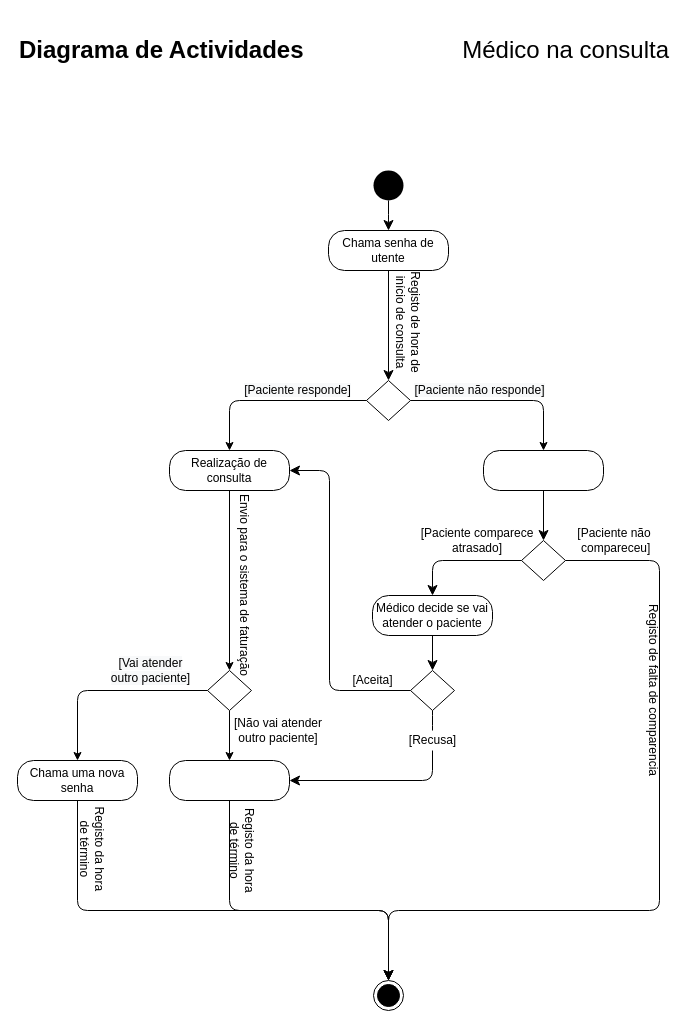
The diagram is 689 pixels wide and 1028 high, and some of its shapes have lost their labels. The shapes that lost their labels are listed below. From the top down, each one's centre as x and y in pixels, then its label:
At [543,470]: "Após 10m de espera Registo da ausência".
At [229,780]: "Encerra a consulta".
